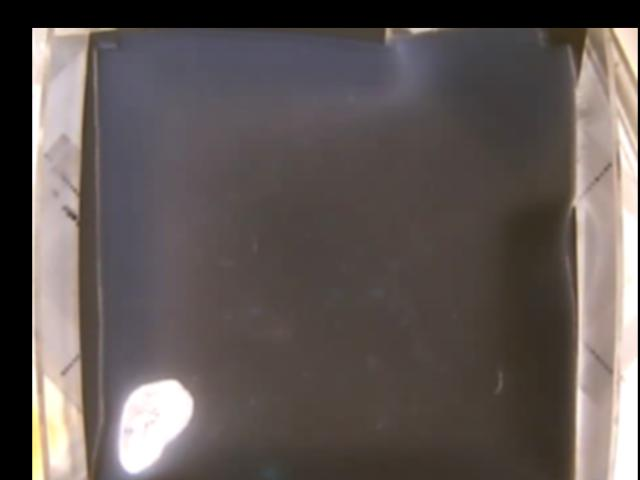Pebble: (118, 379, 194, 478)
